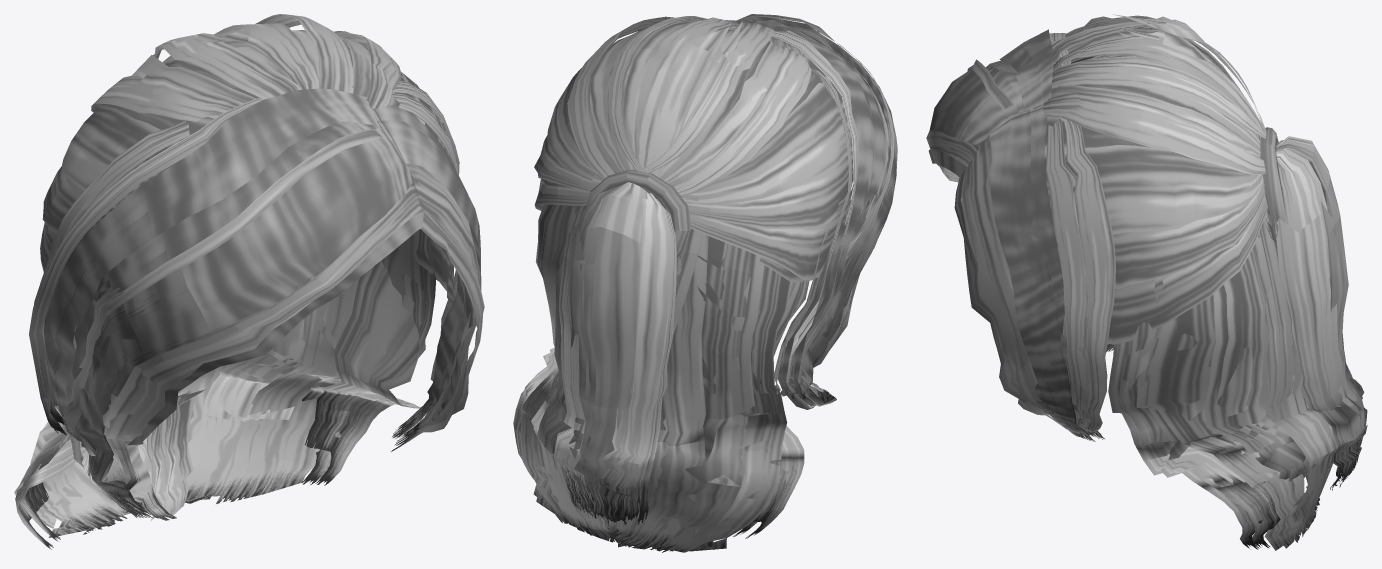
Rendered from daz_hair_french_lazy_roll.glb.
3 renders of one model, left to right at view 1: azimuth 30°, elevation 25°; view 2: azimuth 150°, elevation 25°; view 3: azimuth 270°, elevation 25°, orthographic. The views are drawn at different scales.
Parts seen in each view (by area): view 1: daz_hair_french_lazy_roll; view 2: daz_hair_french_lazy_roll; view 3: daz_hair_french_lazy_roll.
Part boxes in pixels (box(x1,y1,x2,y2)): daz_hair_french_lazy_roll: box(14, 14, 484, 549); daz_hair_french_lazy_roll: box(513, 14, 897, 552); daz_hair_french_lazy_roll: box(926, 14, 1367, 550).
Bounding box in the file's own units: 0.1852 × 0.268 × 0.2216.
1 material, 1 textured.
